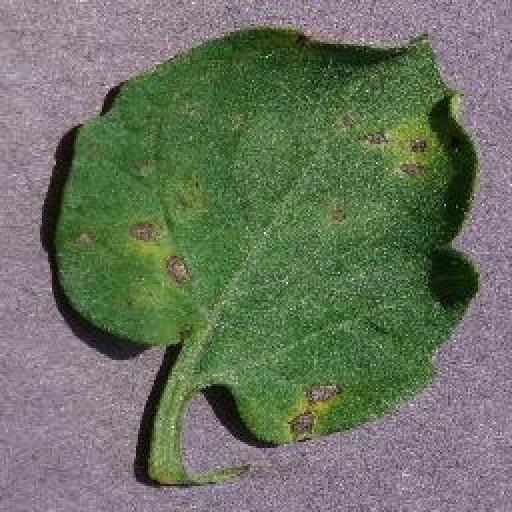Septoria: (57, 24, 483, 445)
